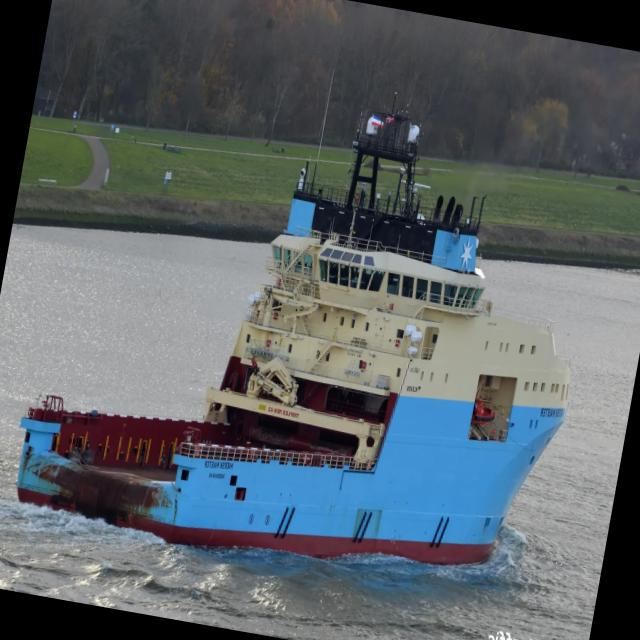Offshore: (17, 105, 570, 564)
